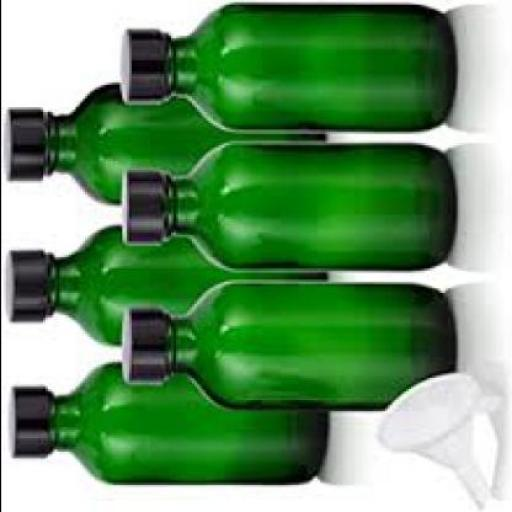glass: (163, 139, 451, 270), (168, 2, 454, 130), (166, 280, 451, 408), (48, 360, 326, 483), (42, 81, 324, 201), (47, 223, 326, 344)
plastic: (371, 366, 491, 505), (116, 306, 168, 383), (116, 168, 161, 242), (4, 384, 49, 454), (116, 30, 161, 98), (2, 248, 44, 319), (2, 107, 40, 180)
